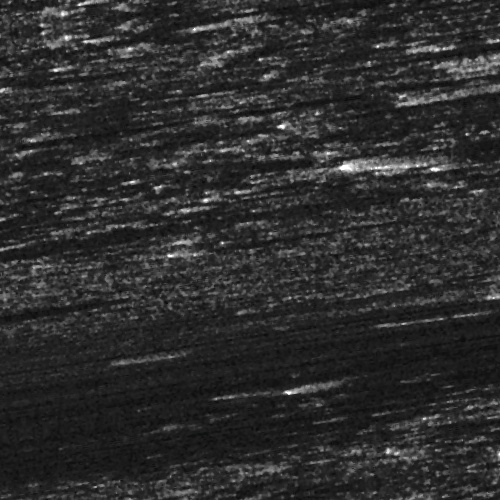object: (319, 171, 486, 192), (264, 385, 347, 398), (411, 117, 500, 128), (275, 125, 380, 134), (410, 189, 493, 196), (431, 71, 500, 78), (0, 205, 26, 222), (134, 238, 217, 243), (258, 17, 299, 22)
shadow: (0, 205, 456, 222), (0, 262, 201, 279), (403, 171, 500, 192), (306, 385, 427, 398), (279, 17, 500, 22), (176, 238, 325, 243), (328, 125, 408, 134), (457, 117, 500, 128), (451, 189, 500, 196), (468, 71, 500, 78)
